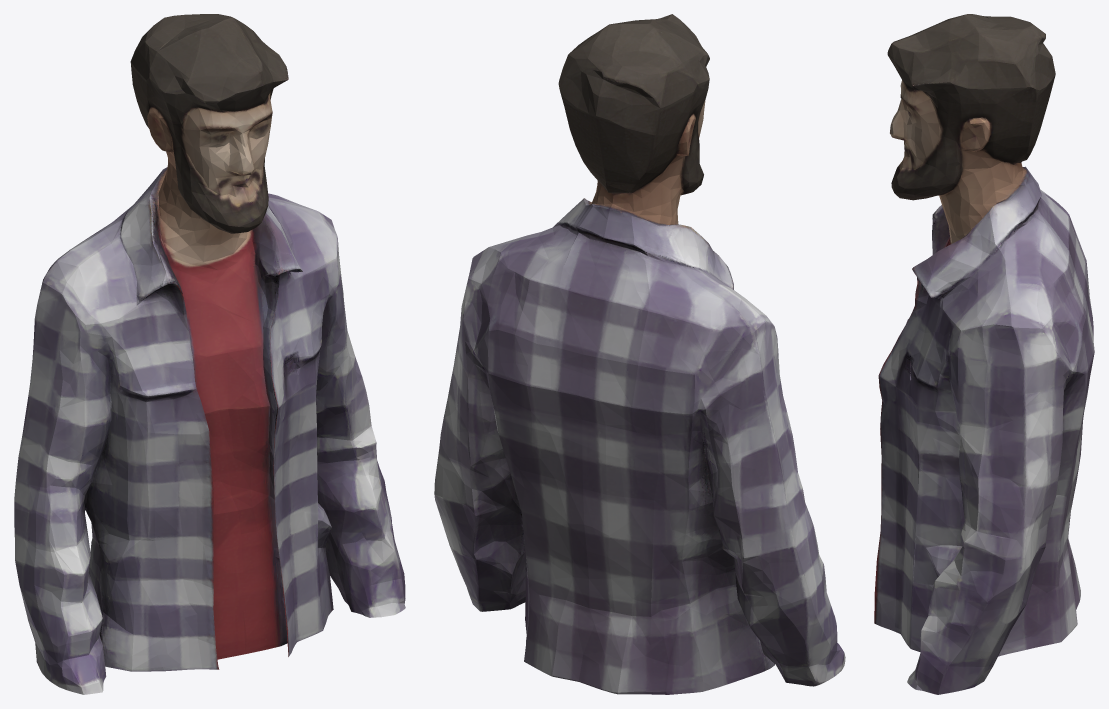
The picture shows the model from 3 angles, left to right: view 1: azimuth 30°, elevation 25°; view 2: azimuth 150°, elevation 25°; view 3: azimuth 270°, elevation 25°; orthographic projection. The views are drawn at different scales.
Parts seen in each view (by area): view 1: geometry_0; view 2: geometry_0; view 3: geometry_0.
Boxes of the visible parts, box(x1,y1,x2,y2) form: geometry_0: box(14, 14, 405, 694); geometry_0: box(434, 14, 845, 694); geometry_0: box(874, 14, 1094, 694).
Bounding box in the file's own units: 0.5218 × 0.8284 × 0.2796.
1 material, 1 textured.
